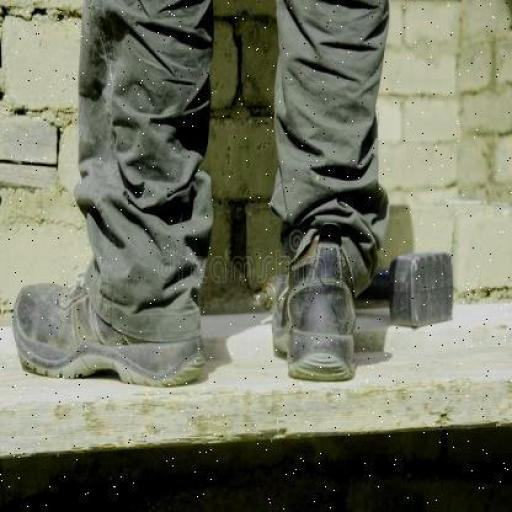safety_shoe: (8, 284, 206, 390), (266, 254, 358, 385)
